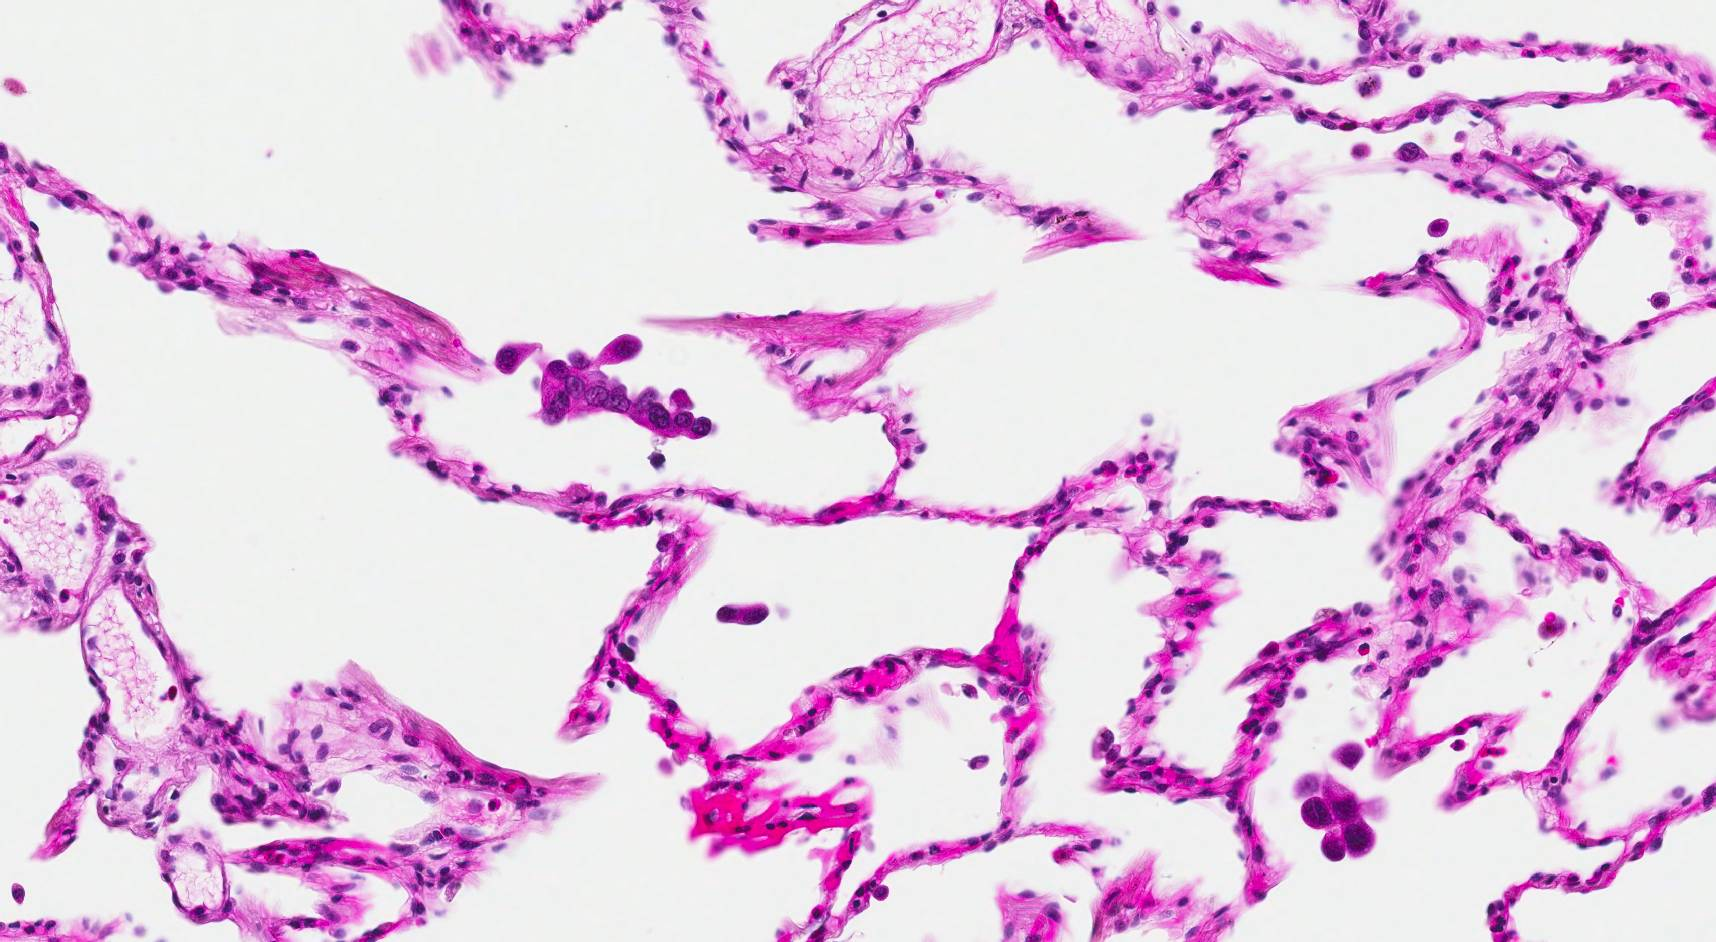stas: (495, 323, 724, 445), (1291, 743, 1393, 862), (717, 595, 768, 628)
